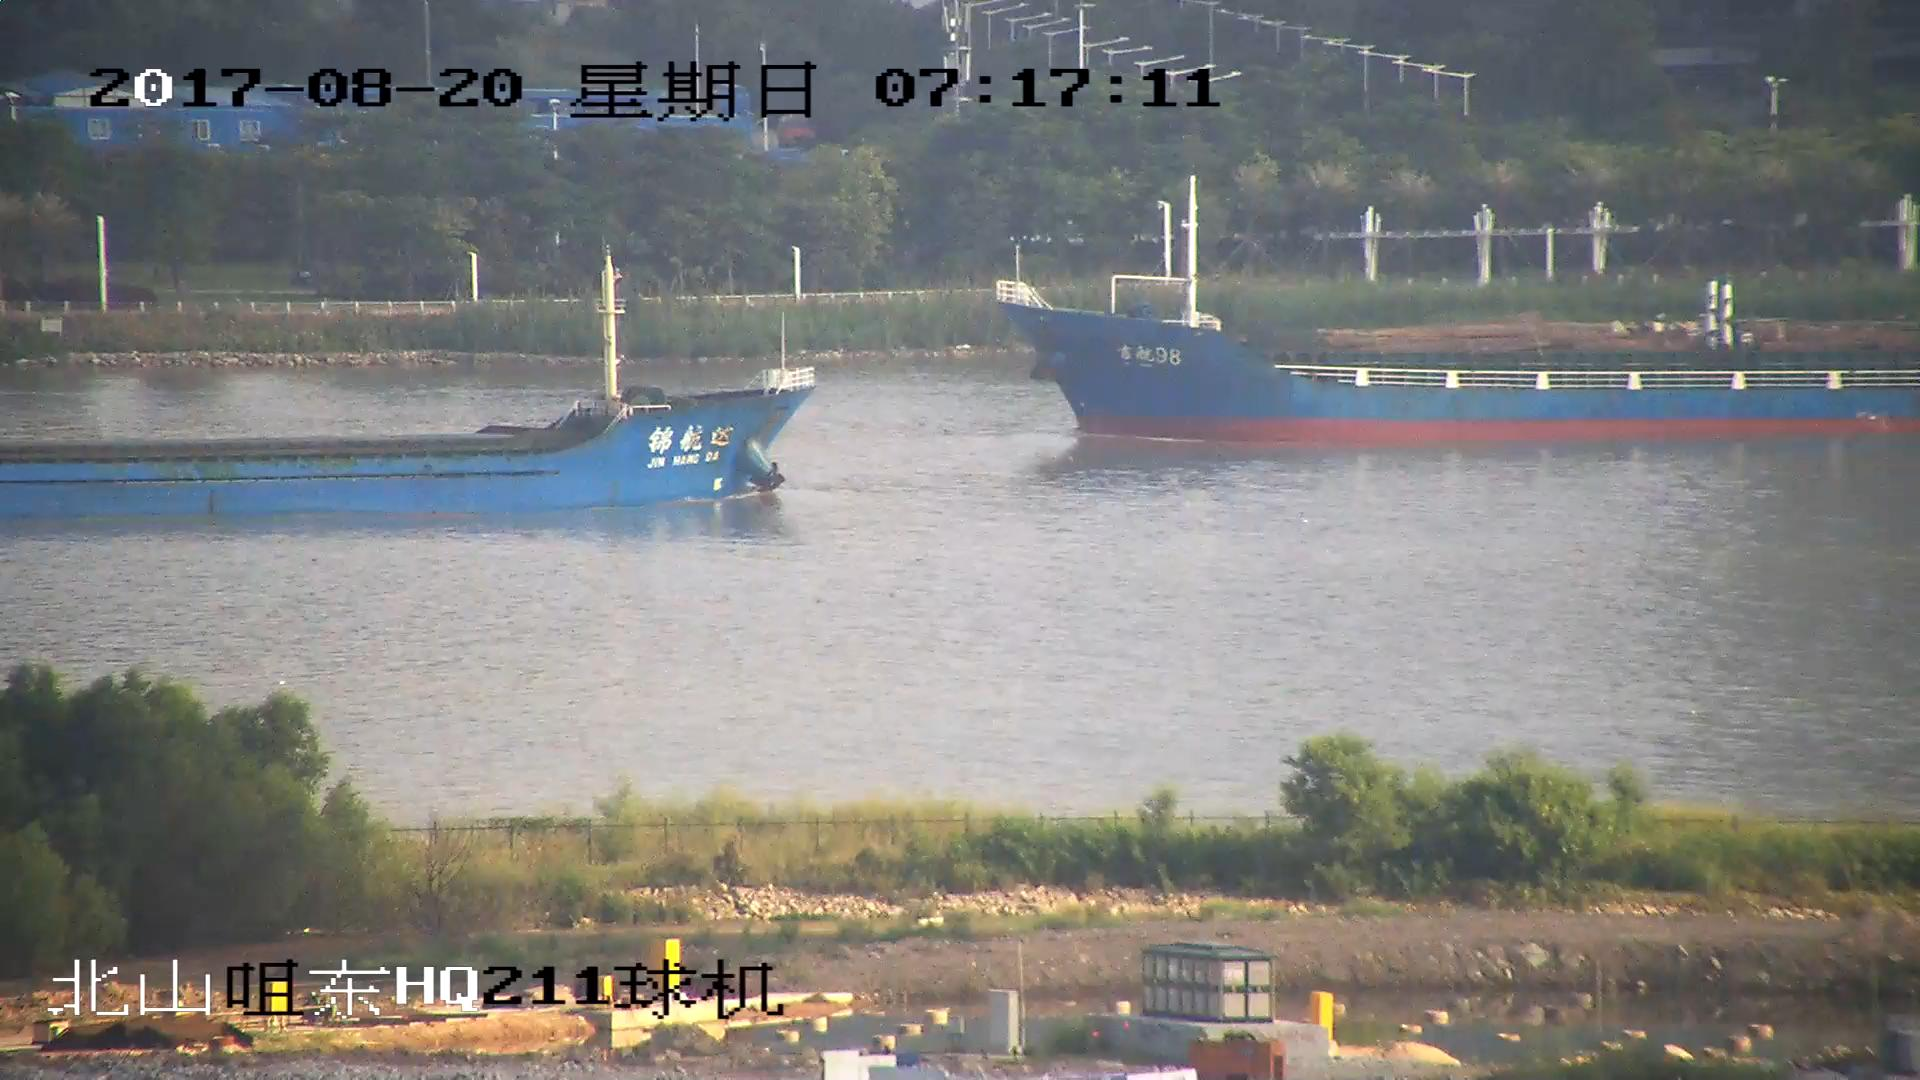general cargo ship: (997, 176, 1920, 451), (1, 260, 811, 520)
